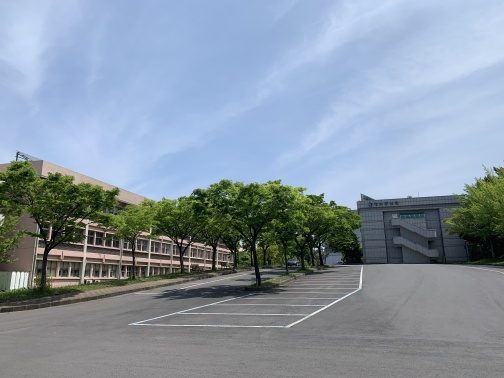College Of Education: (6, 152, 243, 295)
